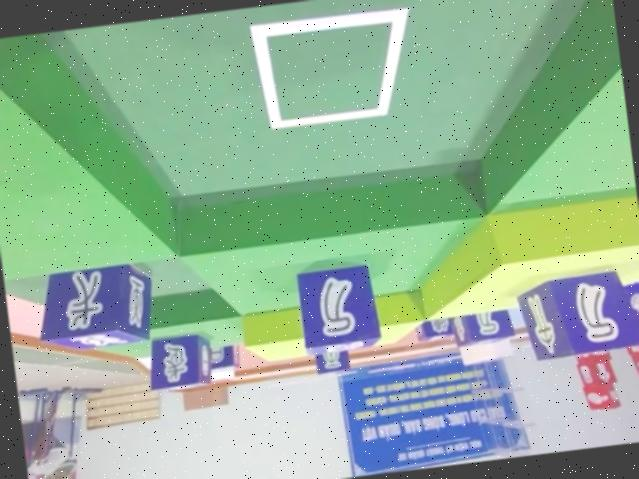R2 Fake Blue: (29, 256, 155, 353), (514, 265, 639, 362), (293, 261, 384, 355), (141, 329, 208, 389), (450, 301, 512, 347), (410, 303, 453, 346), (193, 338, 241, 374)
